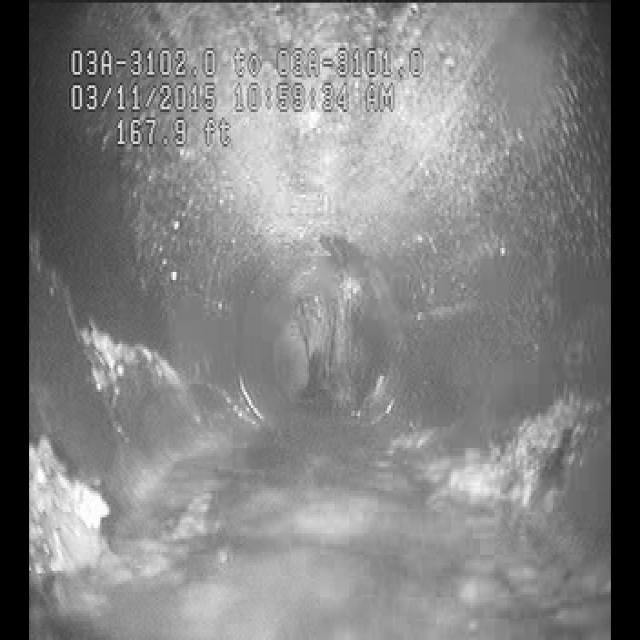Crack: (78, 294, 230, 430)
